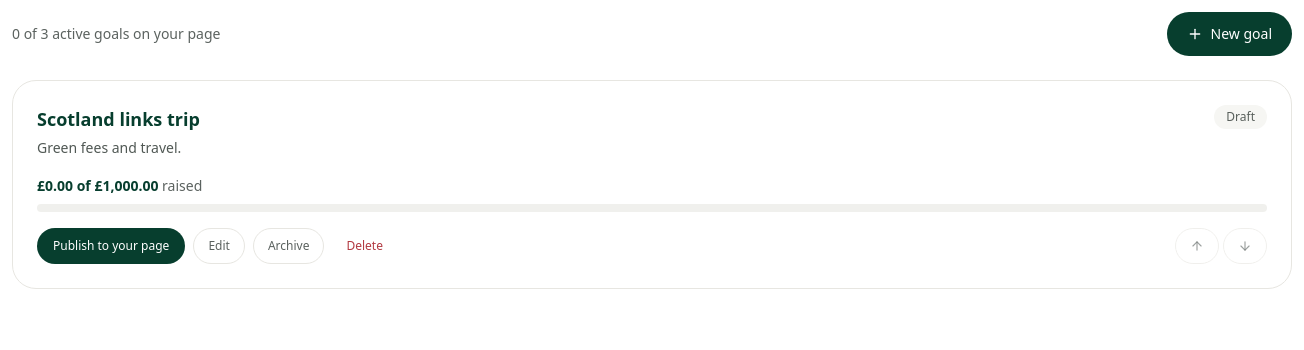
Test: GoalManager › surfaces the server's active-limit refusal
This screenshot has width=1304, height=350.
Click the button "Publish to your page".
click(111, 246)  # box [37,228,185,264]
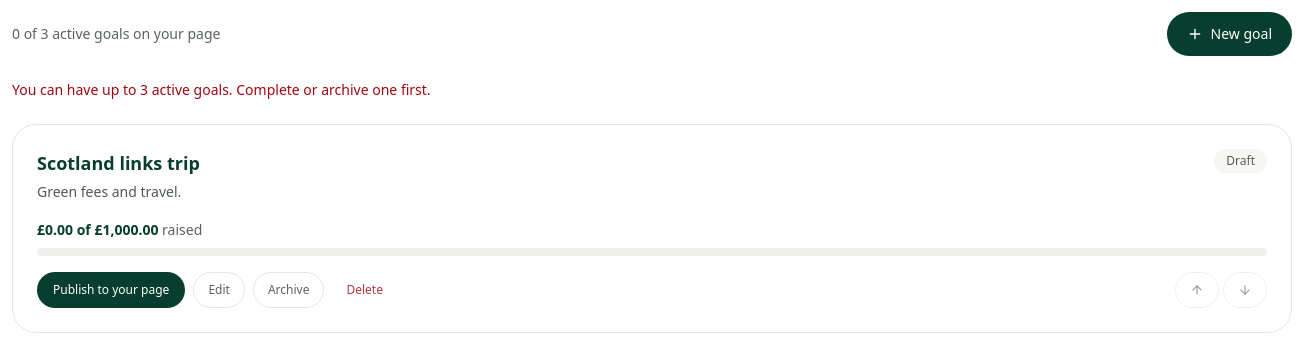
Now the message shows "up to 3 active goals", box [12,80,431,99]
